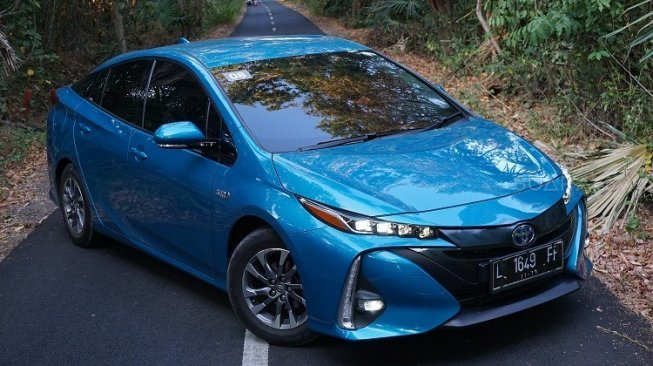mobil: (46, 27, 612, 351)
